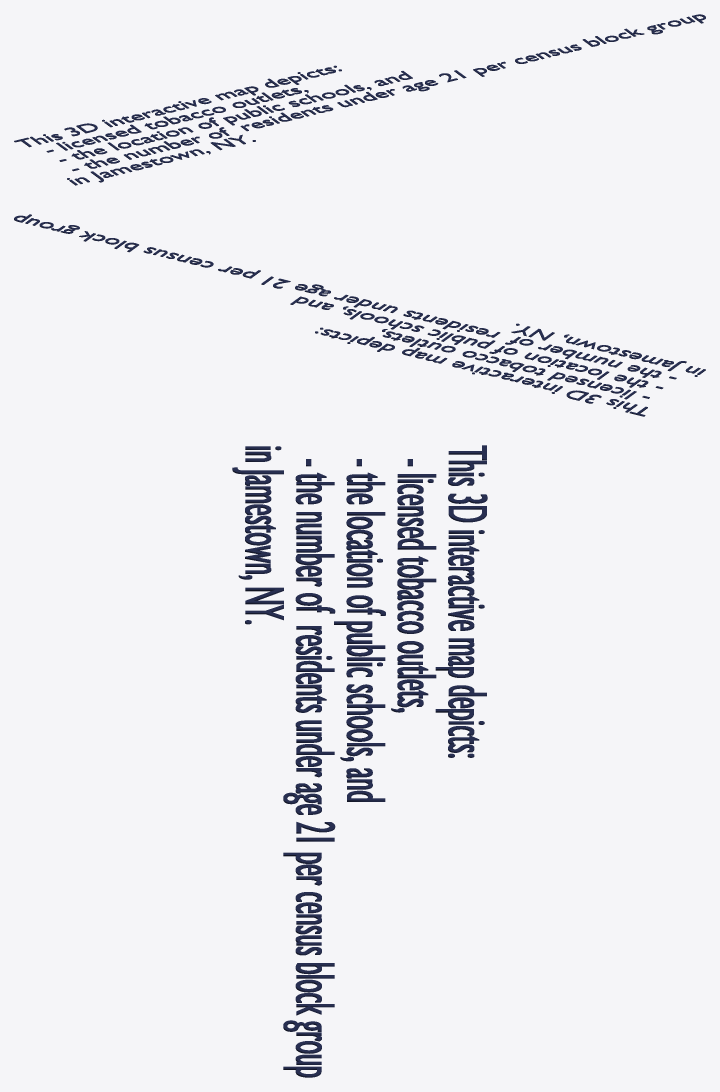
Rendered from Sign_1.glb.
The picture shows the model from 3 angles, top to bottom: view 1: azimuth 30°, elevation 25°; view 2: azimuth 150°, elevation 25°; view 3: azimuth 270°, elevation 25°; orthographic projection. The views are drawn at different scales.
Visible parts, largest first — view 1: Text; view 2: Text; view 3: Text.
Boxes of the visible parts, box(x1,y1,x2,y2) form: Text: box(14, 14, 705, 185); Text: box(14, 214, 705, 416); Text: box(232, 445, 487, 1077).
Size of the model in its own units: 18.52 by 0.02 by 3.16.
